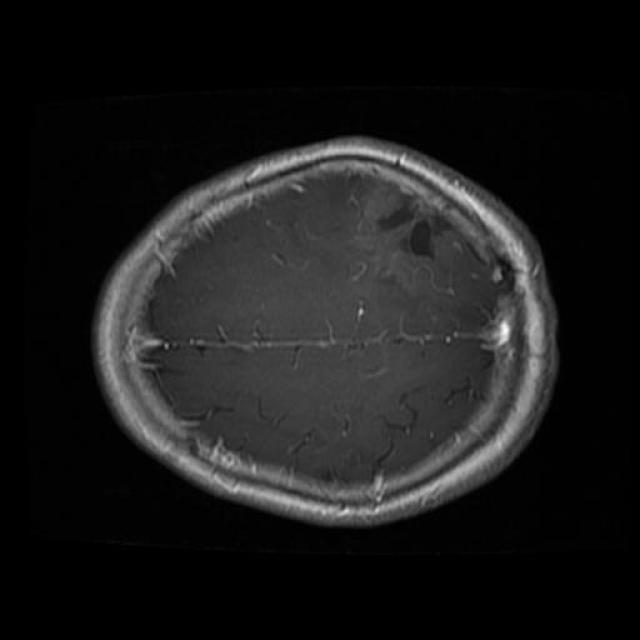Glioma: (356, 176, 453, 257), (454, 295, 516, 362)
